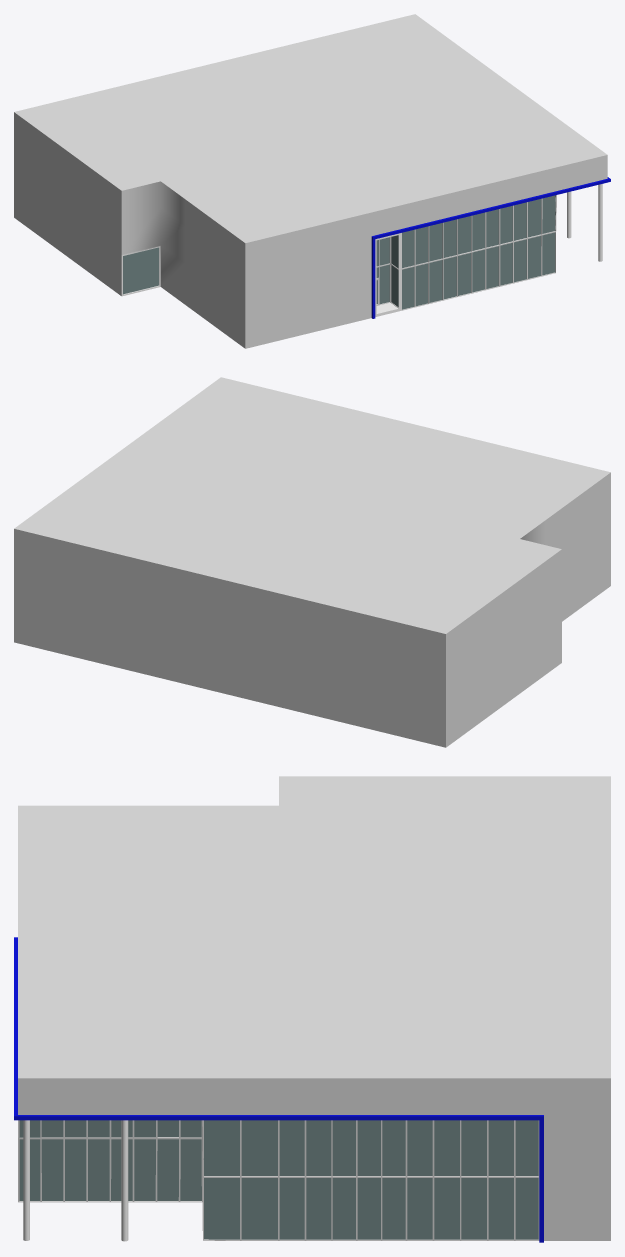
The model's file is GoodeTheatreTextured.fbx.
3 views of the same model, one above another, from view 1: azimuth 30°, elevation 25°; view 2: azimuth 150°, elevation 25°; view 3: azimuth 270°, elevation 25° (orthographic). The views are drawn at different scales.
Visible parts, largest first — view 1: Building_GoodeTheatre; view 2: Building_GoodeTheatre; view 3: Building_GoodeTheatre.
Part boxes in pixels (bbox=[...]): Building_GoodeTheatre: bbox=[14, 14, 610, 348]; Building_GoodeTheatre: bbox=[14, 377, 610, 747]; Building_GoodeTheatre: bbox=[14, 776, 610, 1242].
Size of the model in its own units: 91.43 by 23.15 by 76.04.
